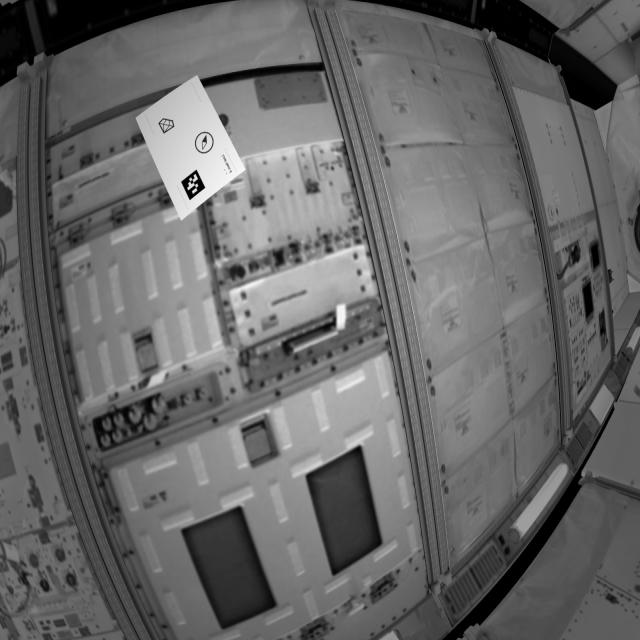compass: (195, 129, 215, 158)
diamond: (157, 116, 178, 137)
